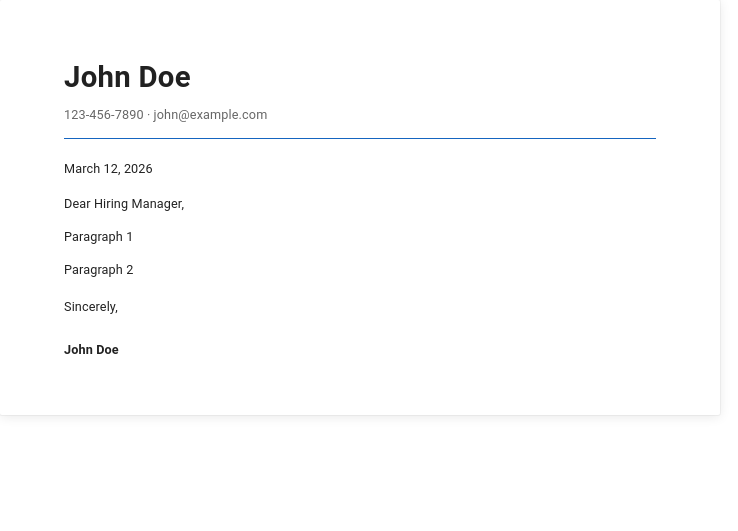
CoverLetterPaper › enters edit mode when clicking a paragraph
This screenshot has width=738, height=531.
Click the text "Paragraph 1" at (99, 236), box x1=64 y1=229 x2=133 y2=244
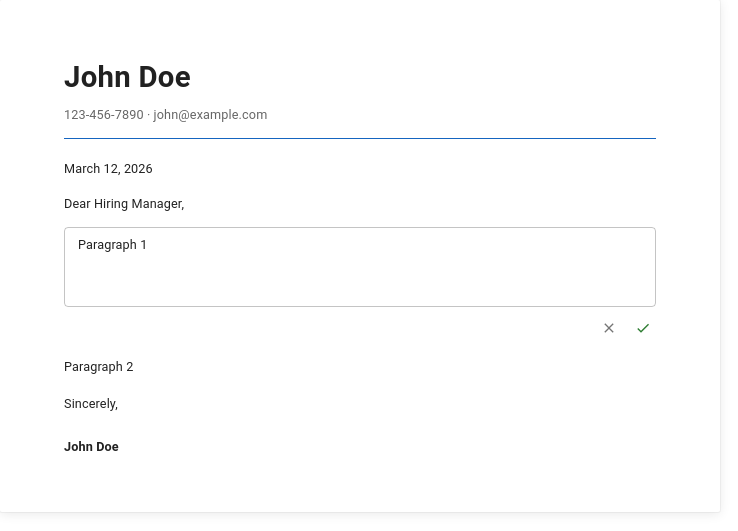
Now the text box holds "Paragraph 1", box x1=78 y1=236 x2=642 y2=298
